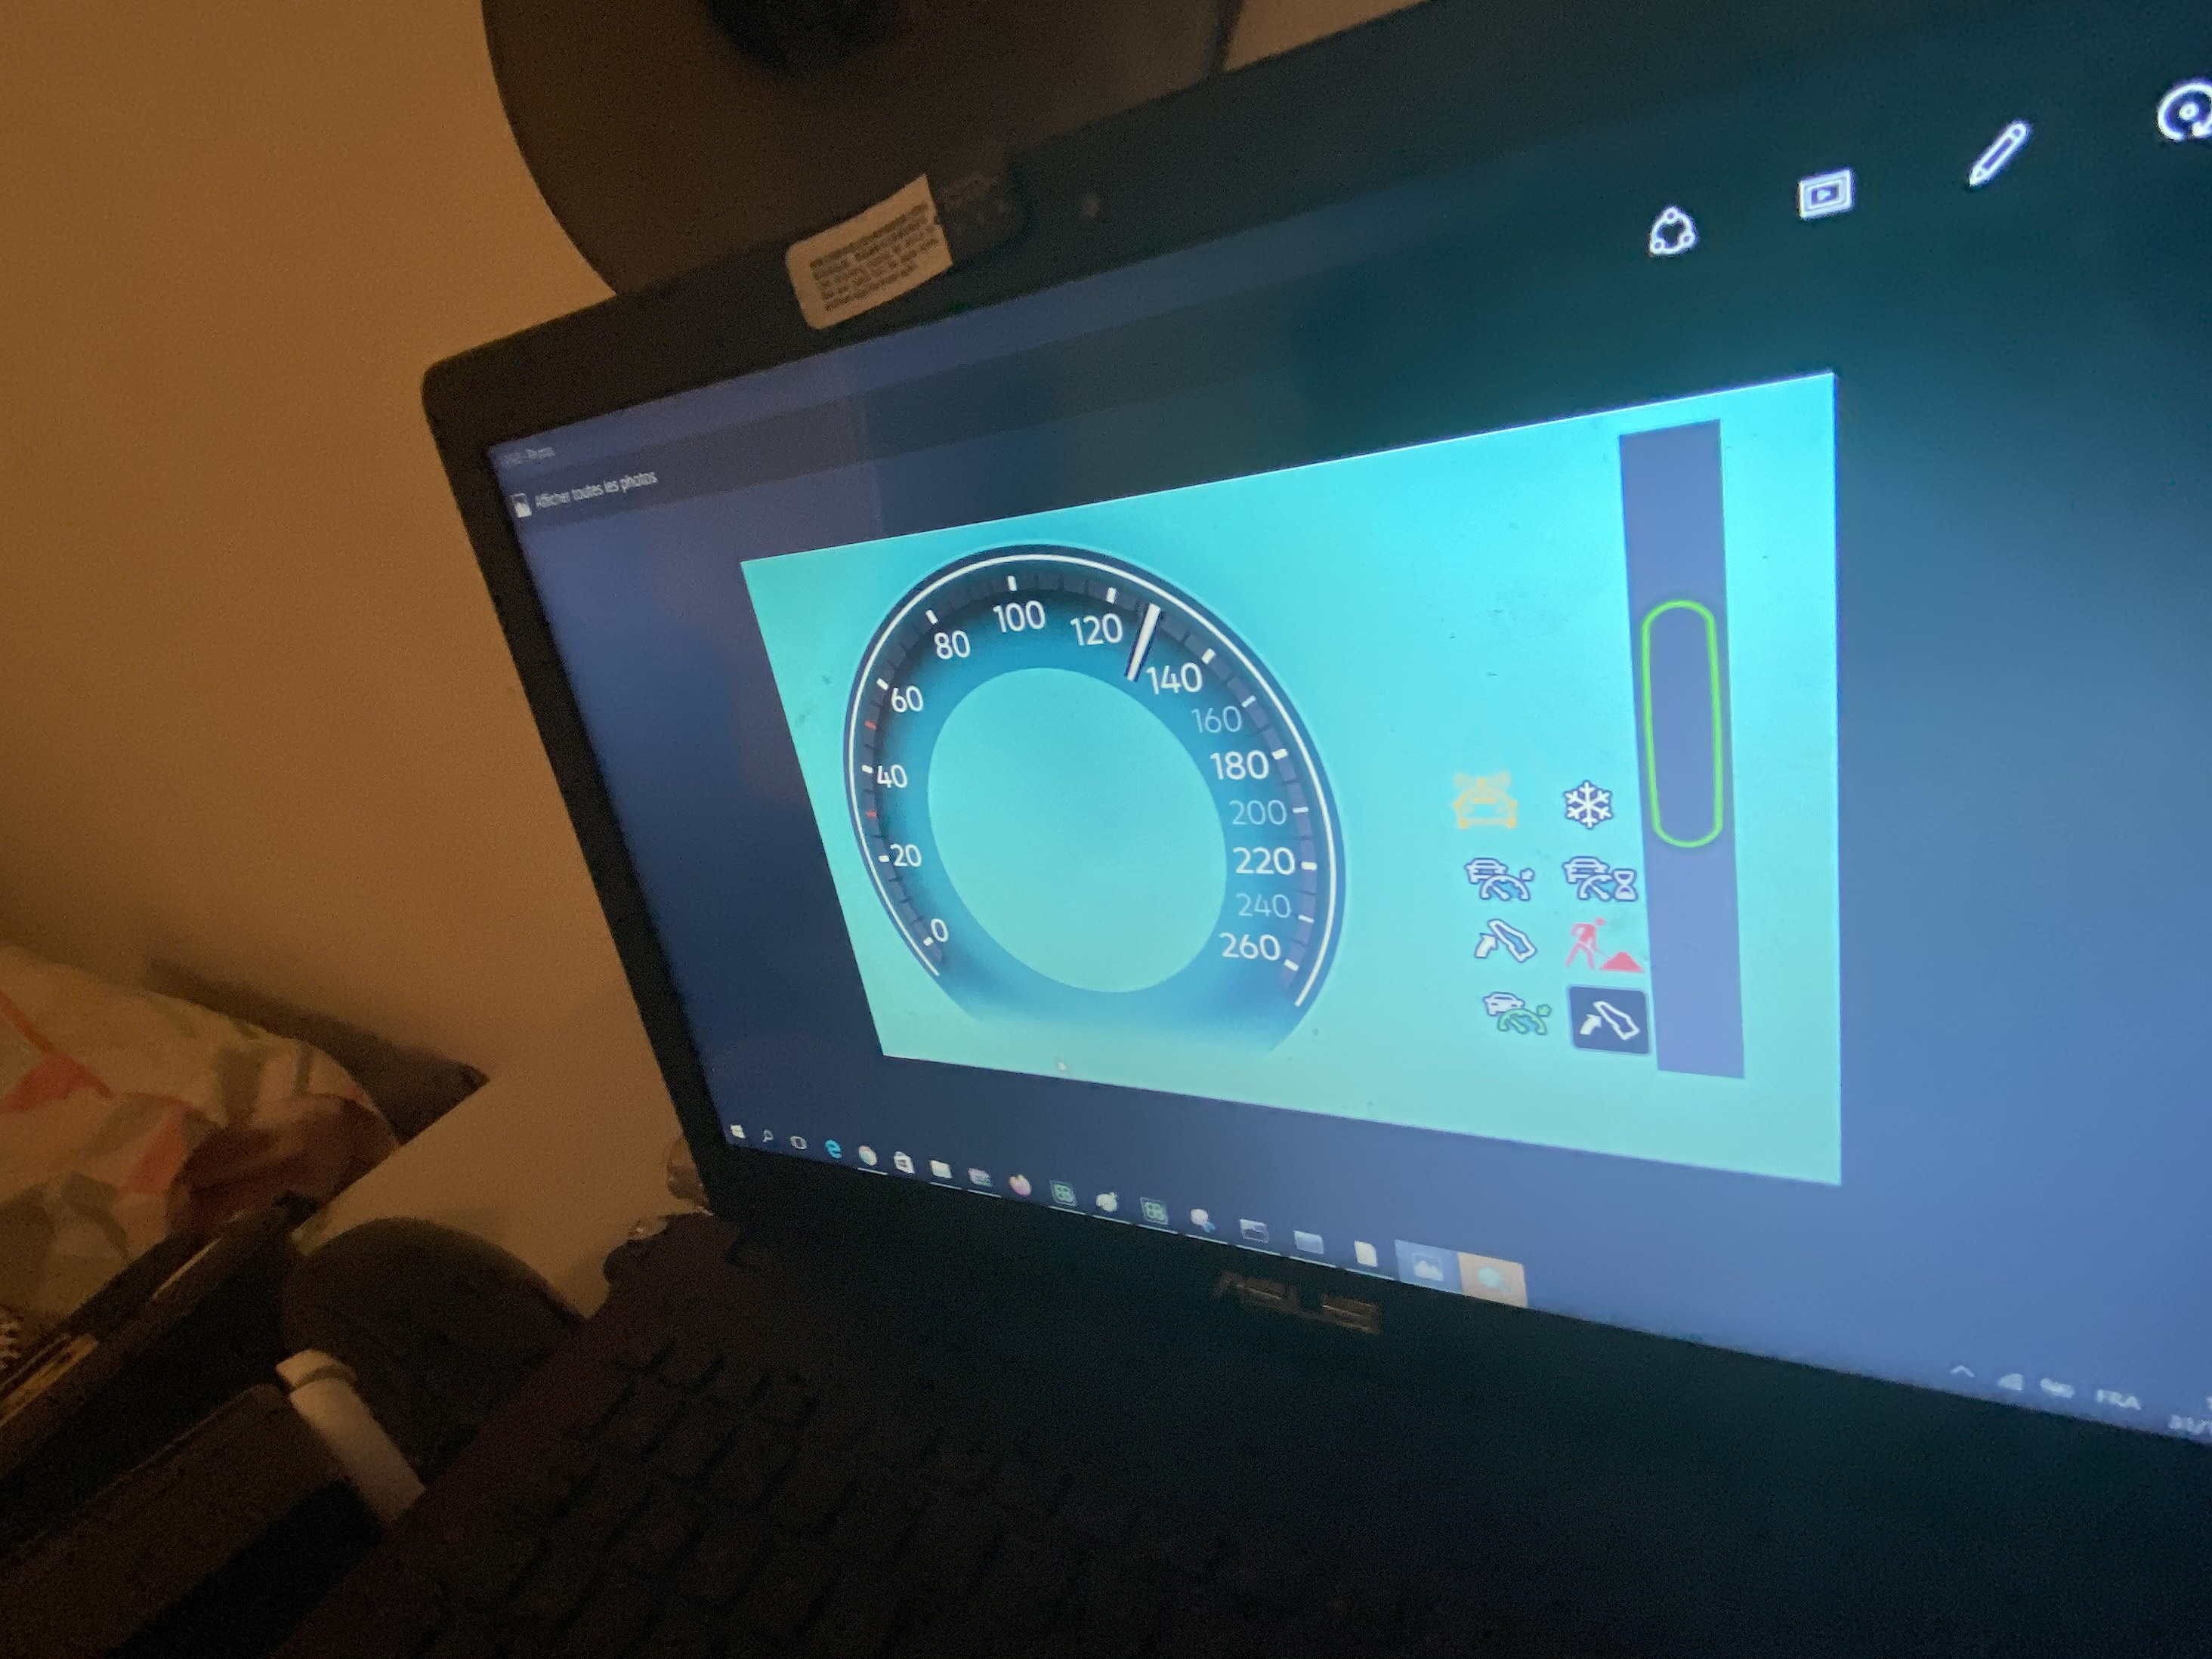ACCELERATOR: (1460, 915, 1552, 972)
ACCELERATOR_R: (1568, 988, 1649, 1056)
ACC_AKTIV: (1463, 852, 1545, 911)
ACC_OVER: (1474, 978, 1568, 1051)
ACC_WAITING: (1561, 854, 1641, 913)
CONSTRUCTION: (1561, 917, 1649, 983)
EISSTERN: (1550, 769, 1625, 843)
SEV_INF: (1444, 769, 1527, 842)
SLIDER: (1639, 589, 1749, 863)
TUBE: (782, 537, 1404, 1089)
